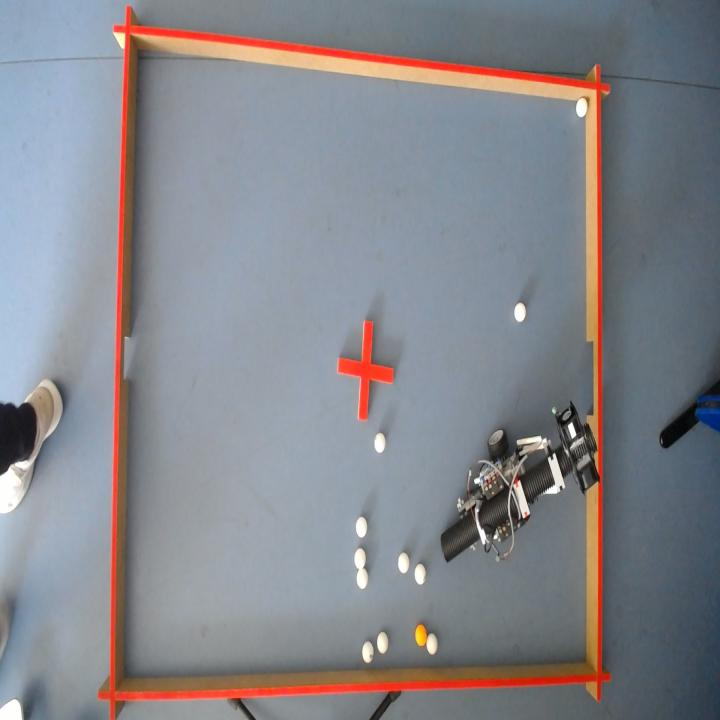orange: (415, 624, 428, 647)
robot: (441, 401, 601, 562)
white: (362, 641, 374, 664), (426, 633, 438, 656), (356, 516, 368, 538), (354, 548, 366, 570), (356, 568, 368, 590), (398, 552, 410, 573), (577, 95, 589, 116), (377, 632, 388, 654), (515, 301, 527, 321), (415, 564, 426, 585), (375, 433, 386, 453)
